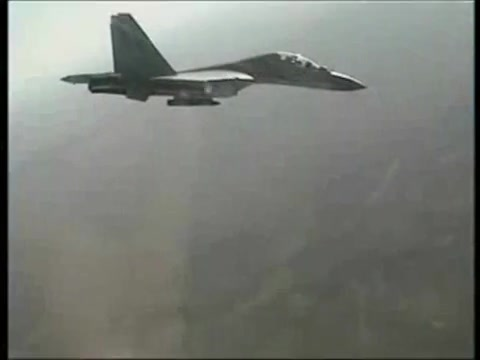aeroplane: (60, 13, 369, 110)
